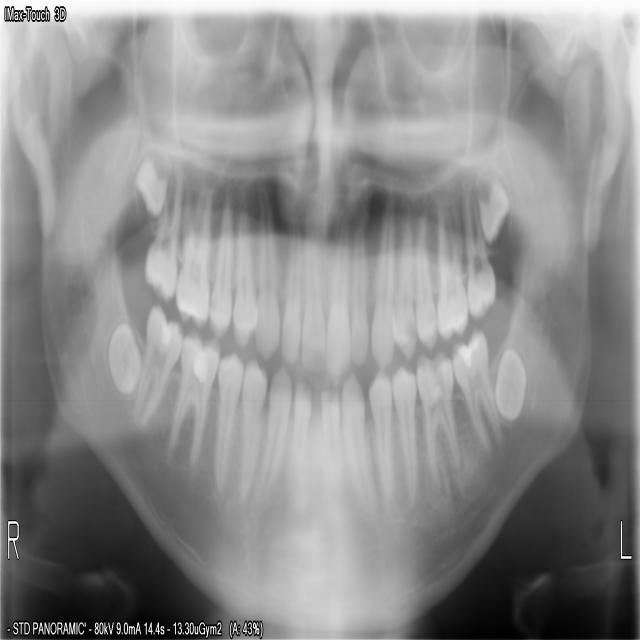LCD: (338, 364, 376, 519)
LCU: (368, 184, 395, 372)
LID: (317, 382, 340, 499)
LIU: (326, 211, 349, 381), (348, 214, 369, 374)
LMD: (449, 317, 505, 462), (413, 349, 464, 492), (491, 337, 527, 426)
LMU: (432, 182, 469, 343), (458, 179, 498, 322), (472, 164, 510, 252)
LPMD: (363, 361, 396, 513), (388, 357, 420, 511)
LPMU: (389, 203, 418, 364), (409, 200, 439, 355)
RCD: (253, 354, 292, 509)
RCU: (252, 179, 281, 364)
RID: (289, 374, 312, 482)
RIU: (300, 205, 327, 376), (280, 209, 301, 366)
RMD: (162, 322, 221, 478), (129, 294, 184, 431), (104, 312, 141, 399)
RMU: (138, 168, 184, 302), (172, 176, 212, 329), (130, 143, 172, 227)
RPMD: (209, 345, 244, 502), (236, 351, 267, 511)
RPMU: (228, 188, 258, 352), (205, 187, 235, 343)
